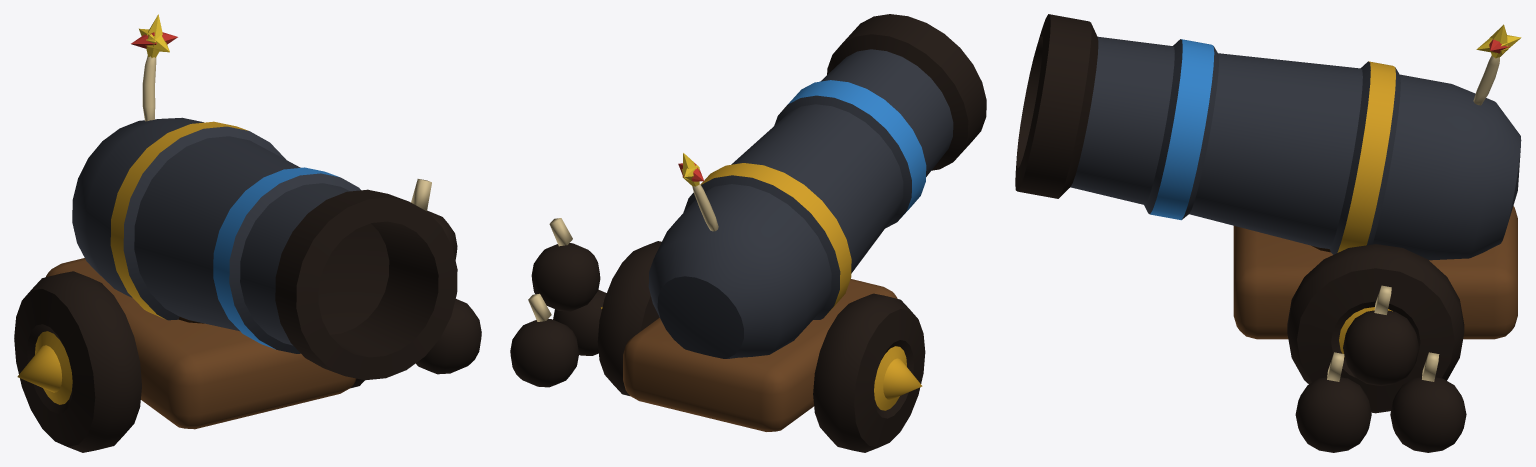
3 renders of one model, left to right at view 1: azimuth 30°, elevation 25°; view 2: azimuth 150°, elevation 25°; view 3: azimuth 270°, elevation 25°, orthographic. The views are drawn at different scales.
Visible parts, largest first — view 1: bomba_1_torreta, bomba_0_base; view 2: bomba_1_torreta, bomba_0_base; view 3: bomba_1_torreta, bomba_0_base.
Part boxes in pixels (box(x1,y1,x2,y2)): bomba_1_torreta: box(72, 14, 457, 380); bomba_0_base: box(14, 179, 481, 452); bomba_1_torreta: box(648, 14, 986, 358); bomba_0_base: box(510, 218, 925, 452); bomba_1_torreta: box(1015, 14, 1521, 260); bomba_0_base: box(1233, 206, 1517, 452).
Size of the model in its own units: 0.9344 by 0.707 by 0.9622.
